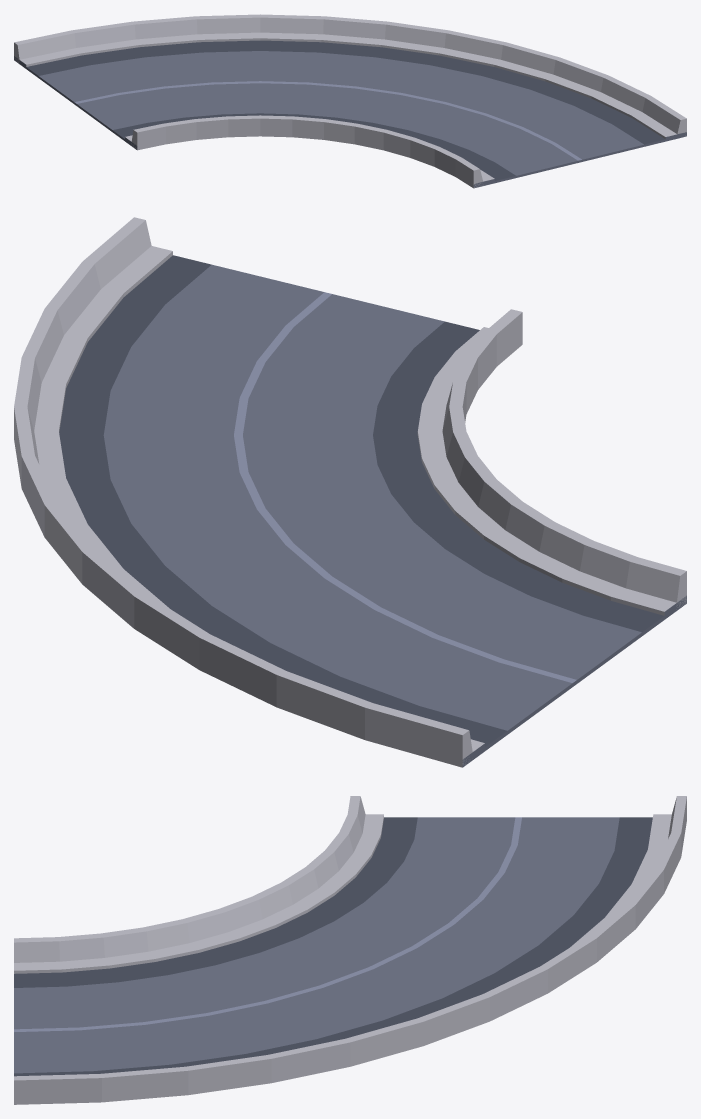
Rendered from road_curve.glb.
3 views of the same model, one above another, from view 1: azimuth 30°, elevation 25°; view 2: azimuth 150°, elevation 25°; view 3: azimuth 270°, elevation 25° (orthographic). The views are drawn at different scales.
Parts seen in each view (by area): view 1: road_curve_fdddb5, road_curve_d1b818, road_curve_1d4898, road_curve_a5cee3, road_curve_c602f3; view 2: road_curve_fdddb5, road_curve_d1b818, road_curve_1d4898, road_curve_a5cee3, road_curve_c602f3; view 3: road_curve_fdddb5, road_curve_d1b818, road_curve_1d4898, road_curve_a5cee3, road_curve_c602f3.
Boxes of the visible parts, left/top/right/bottom form: road_curve_fdddb5: left=14, top=51, right=686, bottom=188; road_curve_d1b818: left=14, top=14, right=686, bottom=187; road_curve_1d4898: left=27, top=40, right=665, bottom=180; road_curve_a5cee3: left=20, top=32, right=676, bottom=188; road_curve_c602f3: left=74, top=81, right=581, bottom=160; road_curve_fdddb5: left=103, top=264, right=686, bottom=767; road_curve_d1b818: left=14, top=217, right=686, bottom=767; road_curve_1d4898: left=59, top=255, right=663, bottom=746; road_curve_a5cee3: left=14, top=246, right=676, bottom=767; road_curve_c602f3: left=234, top=292, right=576, bottom=682; road_curve_fdddb5: left=14, top=817, right=619, bottom=1073; road_curve_d1b818: left=14, top=796, right=686, bottom=1104; road_curve_1d4898: left=14, top=817, right=652, bottom=1076; road_curve_a5cee3: left=14, top=814, right=686, bottom=1104; road_curve_c602f3: left=14, top=817, right=521, bottom=1031.
Size of the model in its own units: 2 by 0.08 by 2.
